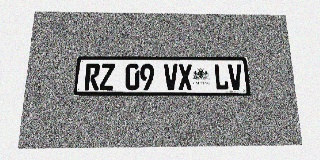0: (125, 64, 140, 90)
9: (140, 64, 154, 90)
L: (214, 64, 229, 90)
R: (84, 64, 100, 90)
V: (228, 64, 243, 90), (164, 64, 178, 90)
X: (178, 64, 192, 90)
Z: (99, 64, 115, 90)
